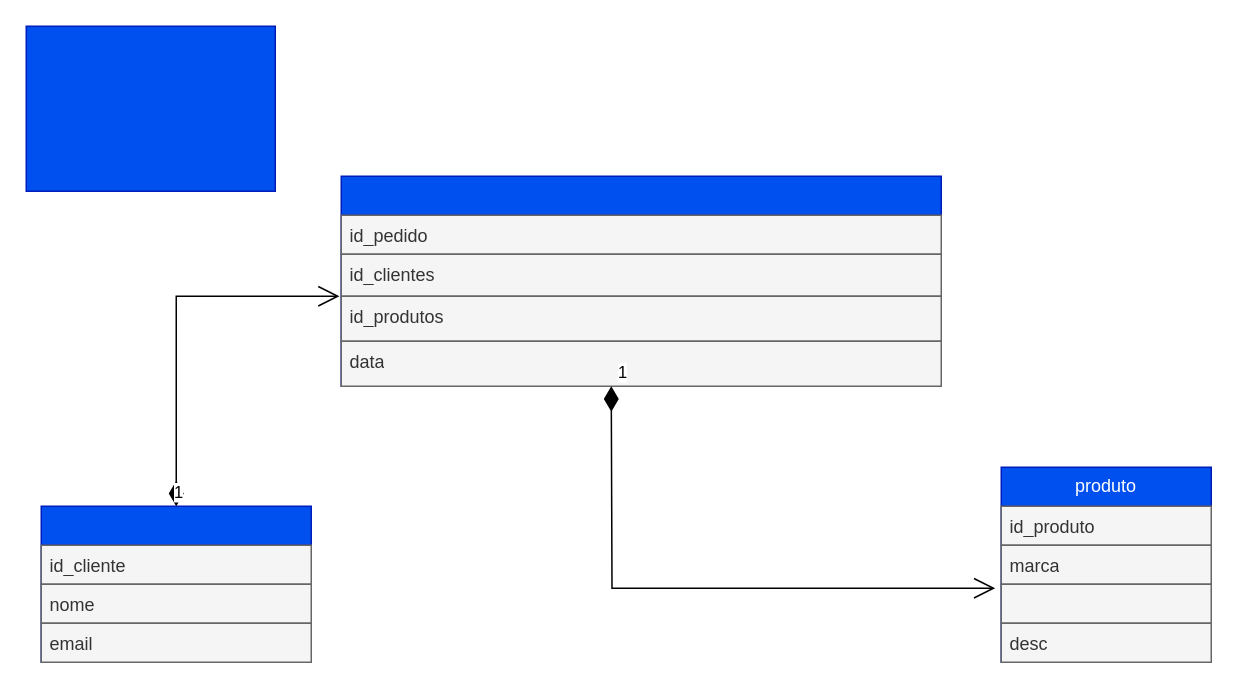
The diagram is 1238 pixels wide and 693 high, and some of its shapes have lost their labels. Each missing label, with the box of its shape:
CLIENTES: (40, 505, 311, 662)
pedidos: (340, 175, 941, 386)
Projeto Loja Diagrama UML Desenvolvido por Samuel: (25, 25, 275, 191)
valor: (1000, 583, 1211, 623)
